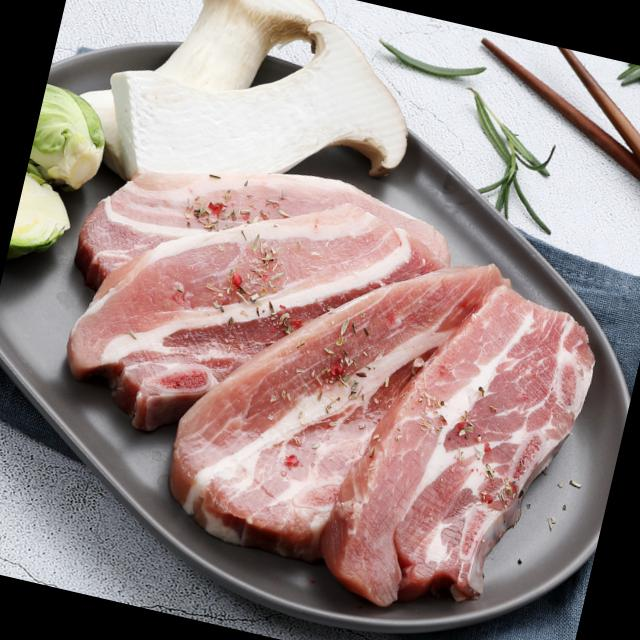--------: (12, 122, 629, 640), (309, 258, 611, 640)
